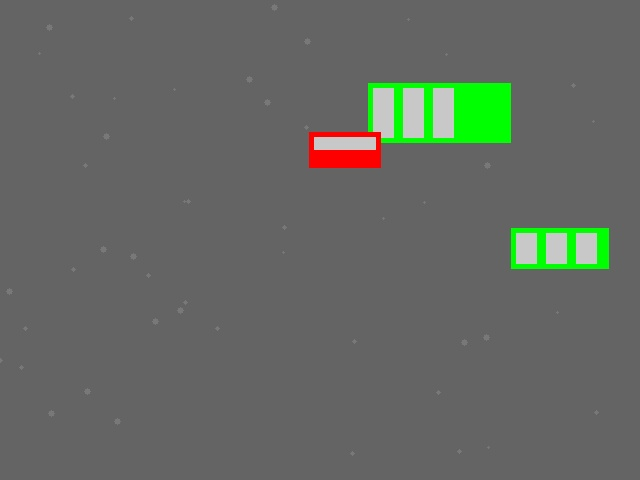bus: (368, 83, 510, 142), (511, 228, 608, 268)
car: (309, 132, 380, 167)
